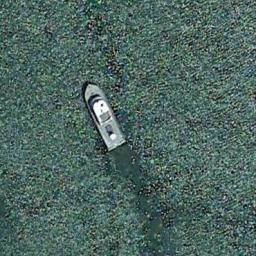boat: (82, 80, 126, 152)
